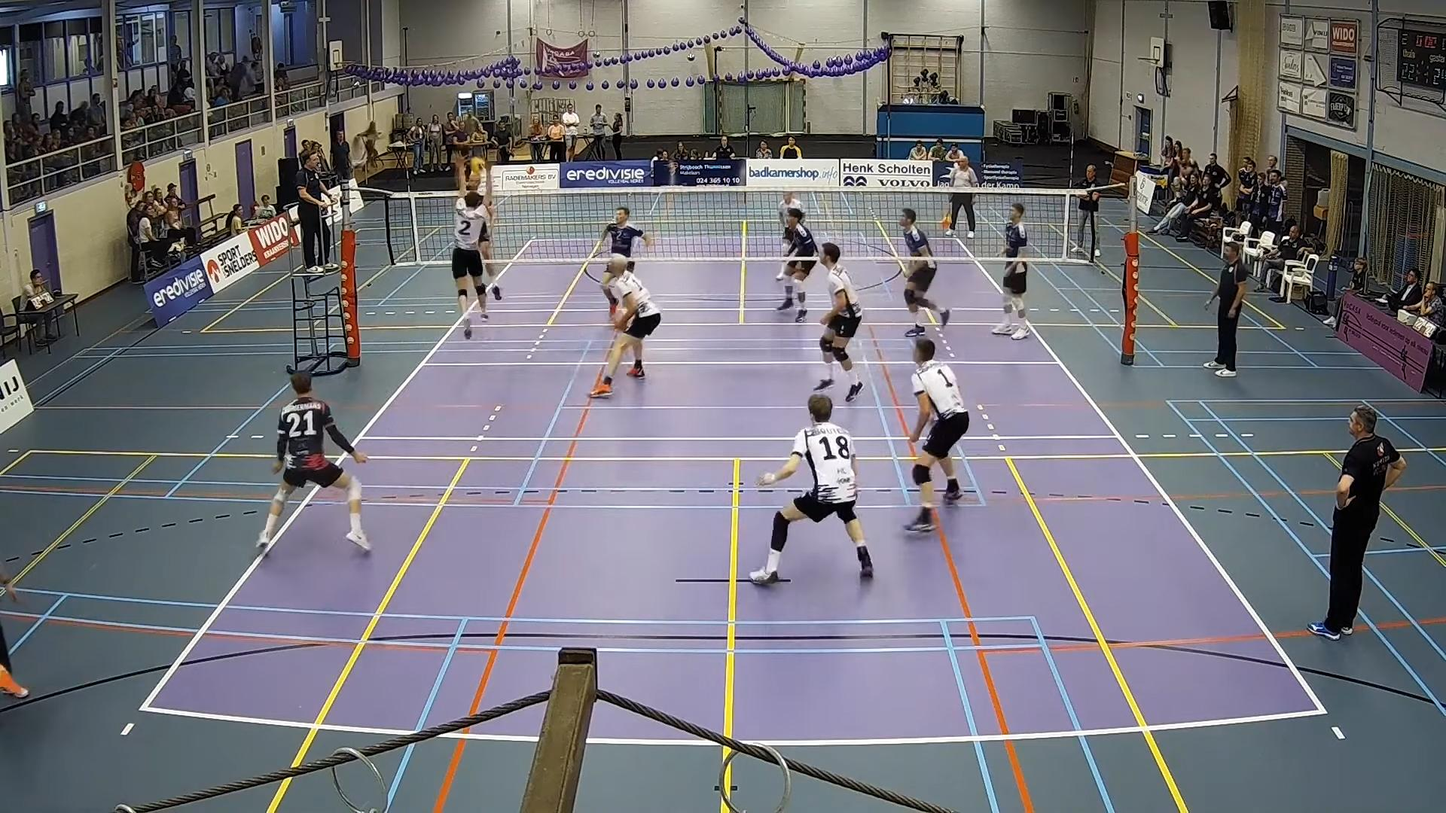attacco: (464, 157, 509, 298)
muro: (447, 157, 495, 344)
